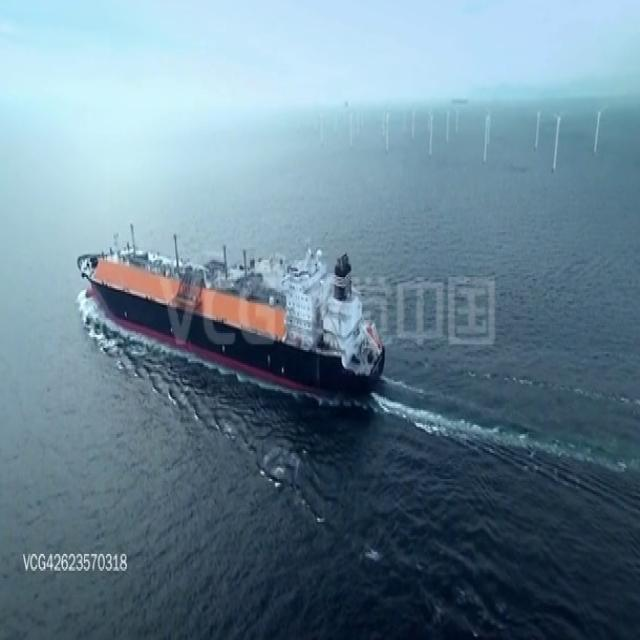cargoship: (81, 227, 383, 397)
